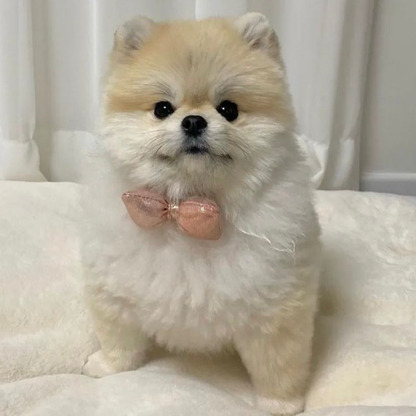Pomeranian: (70, 12, 339, 398)
